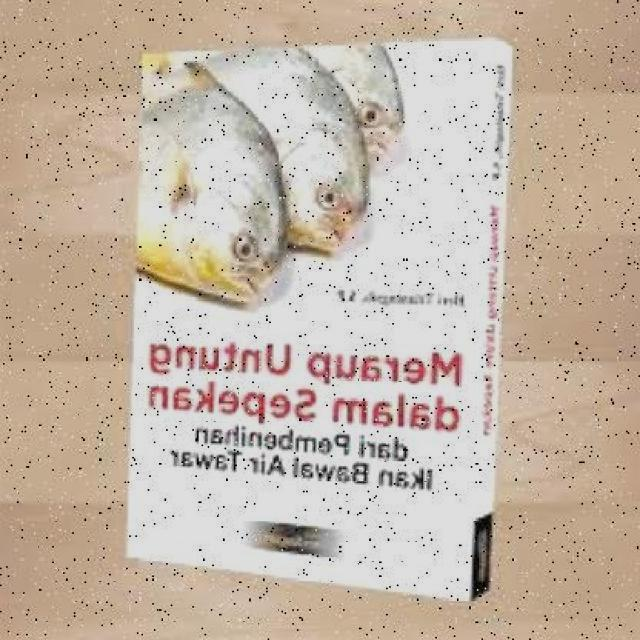ikan-pacu: (143, 48, 282, 300), (248, 48, 370, 248)
